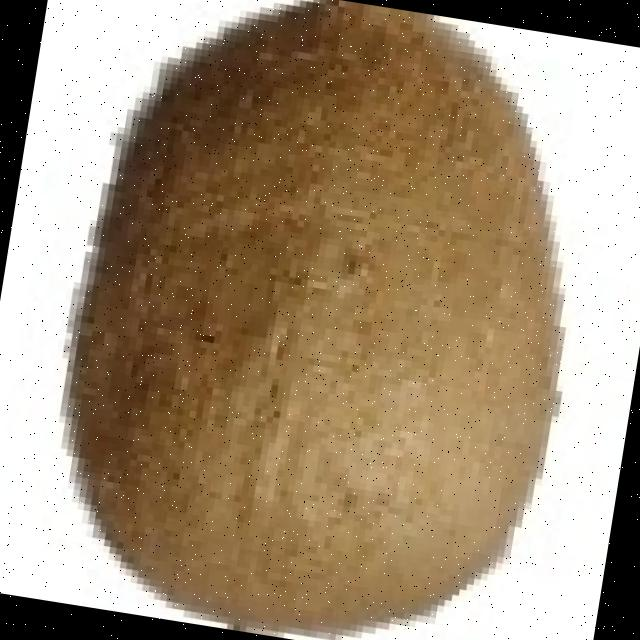kiwi: (81, 13, 563, 640)
